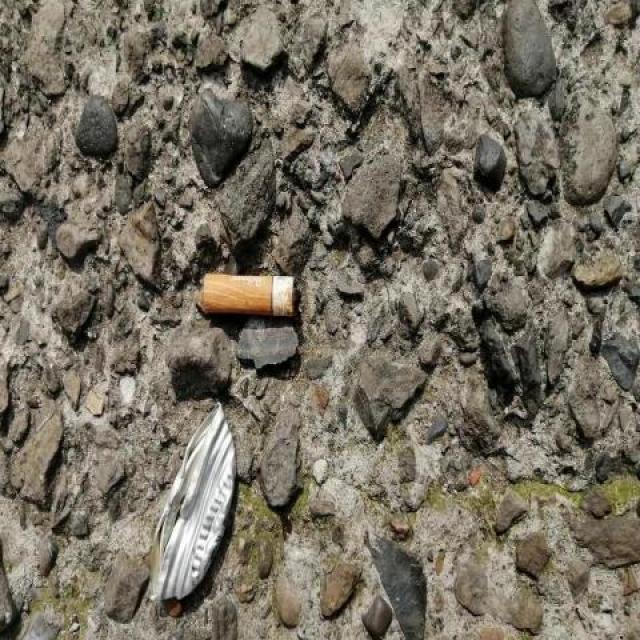non-organic waste: (194, 264, 306, 327)
